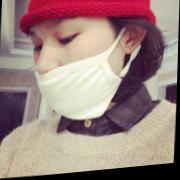WRONG: (28, 8, 122, 128)
